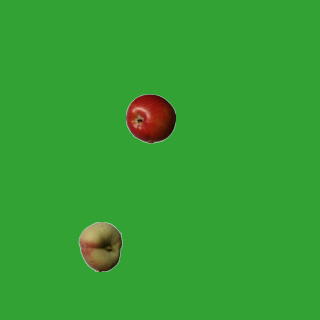Apple Braeburn: (125, 93, 175, 143)
Peach Flat: (75, 221, 125, 271)
